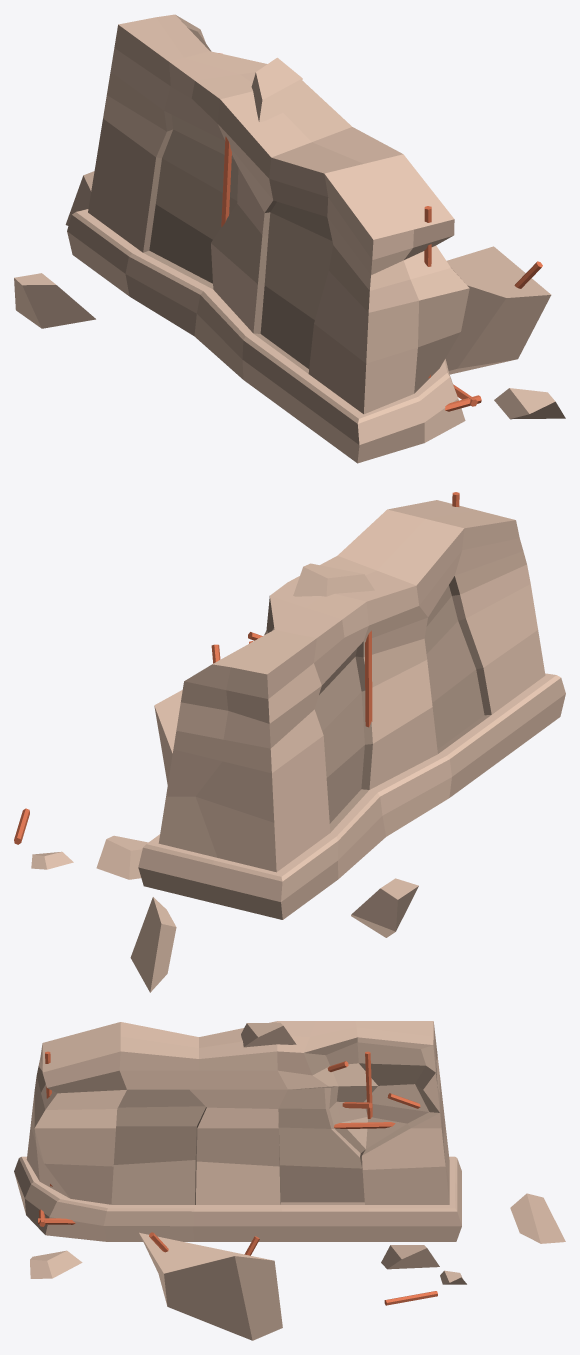
File: Barrier_Damaged.fbx
The picture shows the model from 3 angles, top to bottom: view 1: azimuth 30°, elevation 25°; view 2: azimuth 150°, elevation 25°; view 3: azimuth 270°, elevation 25°; orthographic projection. The views are drawn at different scales.
Parts seen in each view (by area): view 1: Barrier_Damage; view 2: Barrier_Damage; view 3: Barrier_Damage.
Part boxes in pixels (left/top/right/bottom): Barrier_Damage: left=14, top=14, right=565, bottom=463; Barrier_Damage: left=14, top=492, right=565, bottom=992; Barrier_Damage: left=14, top=1021, right=565, bottom=1340.
Bounding box in the file's own units: 464 × 388 × 710.
